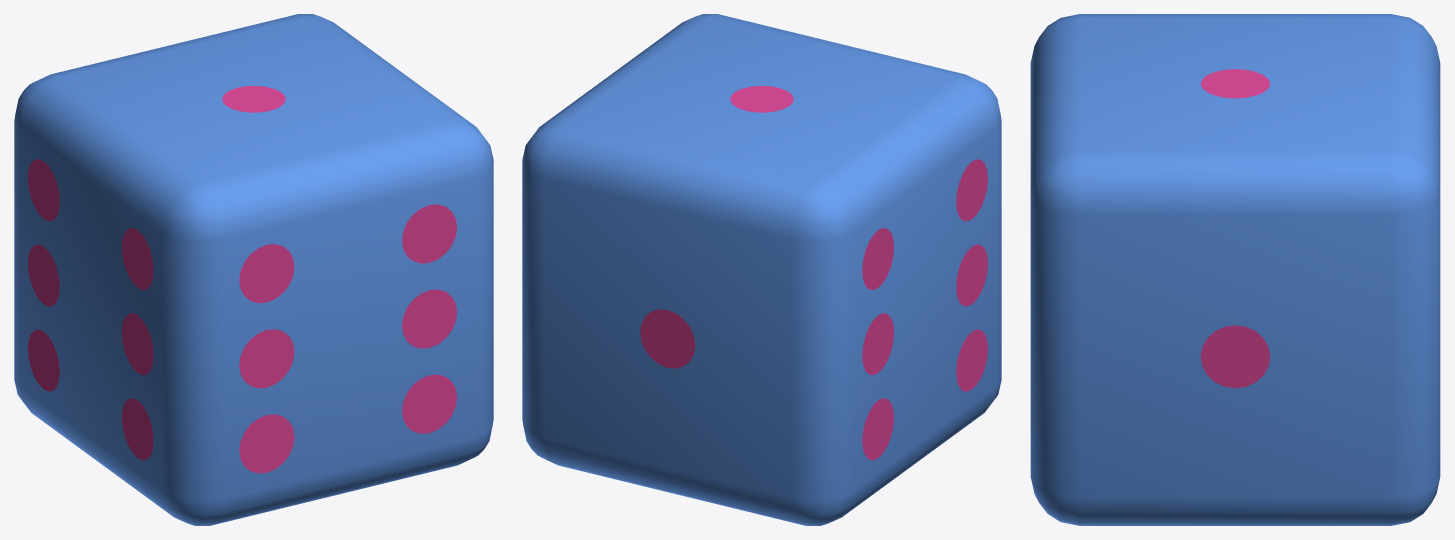
The model's file is die16.glb.
The picture shows the model from 3 angles, left to right: view 1: azimuth 30°, elevation 25°; view 2: azimuth 150°, elevation 25°; view 3: azimuth 270°, elevation 25°; orthographic projection. The views are drawn at different scales.
Visible parts, largest first — view 1: Die16; view 2: Die16; view 3: Die16.
Boxes of the visible parts, box(x1,y1,x2,y2) form: Die16: box(14, 14, 493, 525); Die16: box(522, 14, 1001, 525); Die16: box(1030, 14, 1440, 525).
Size of the model in its own units: 1 by 1 by 1.
